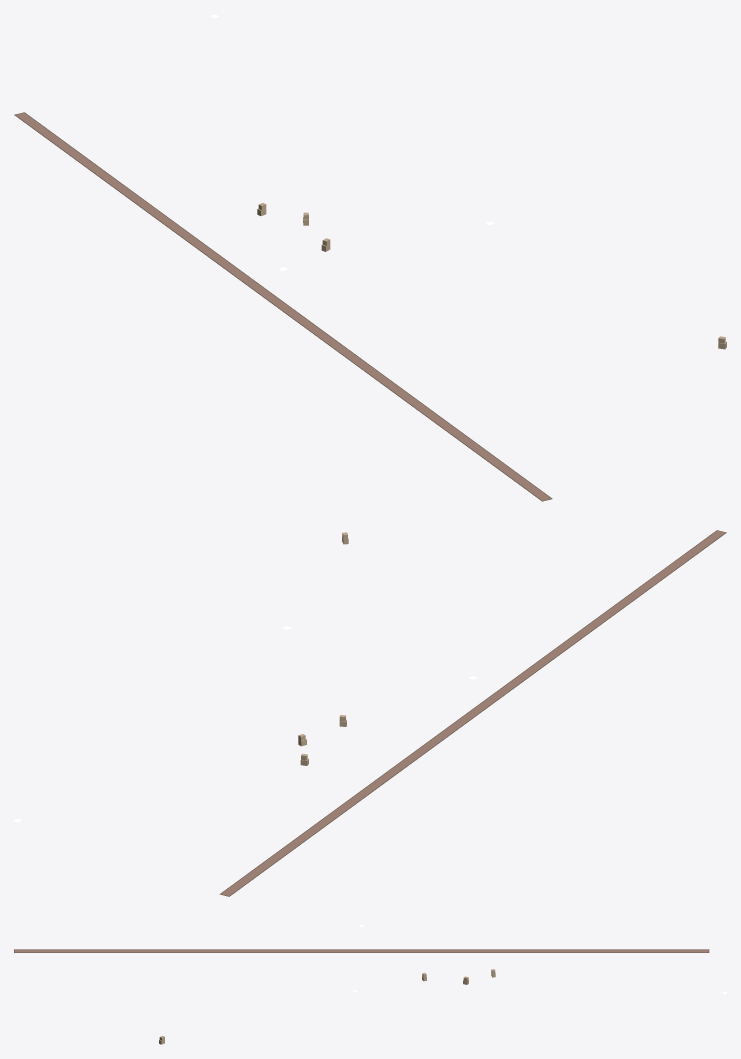
The model's file is fine-s0.glb.
3 views of the same model, one above another, from view 1: azimuth 30°, elevation 25°; view 2: azimuth 150°, elevation 25°; view 3: azimuth 270°, elevation 25° (orthographic). The views are drawn at different scales.
Visible parts, largest first — view 1: soft-s0; view 2: soft-s0; view 3: soft-s0.
Part boxes in pixels (x1,y1,x2,y2): soft-s0: (14,112,552,501); soft-s0: (219,530,726,896); soft-s0: (14,949,709,952).
Size of the model in its own units: 27.94 by 3.44 by 88.37.
